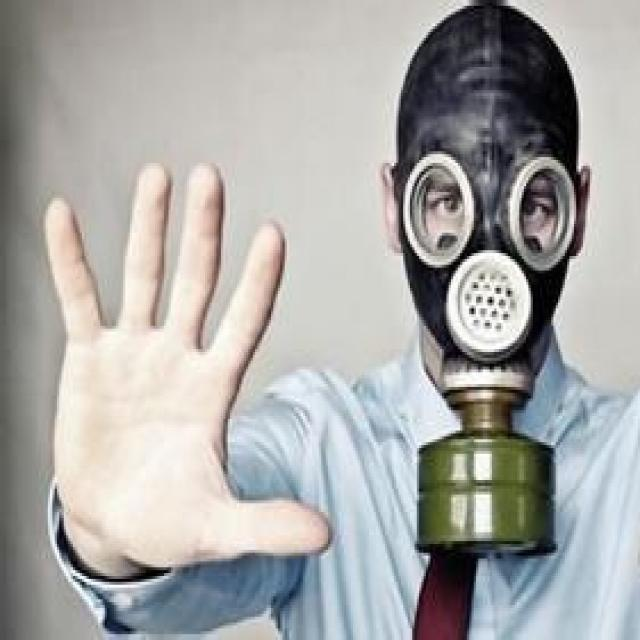mask: (405, 100, 574, 354)
